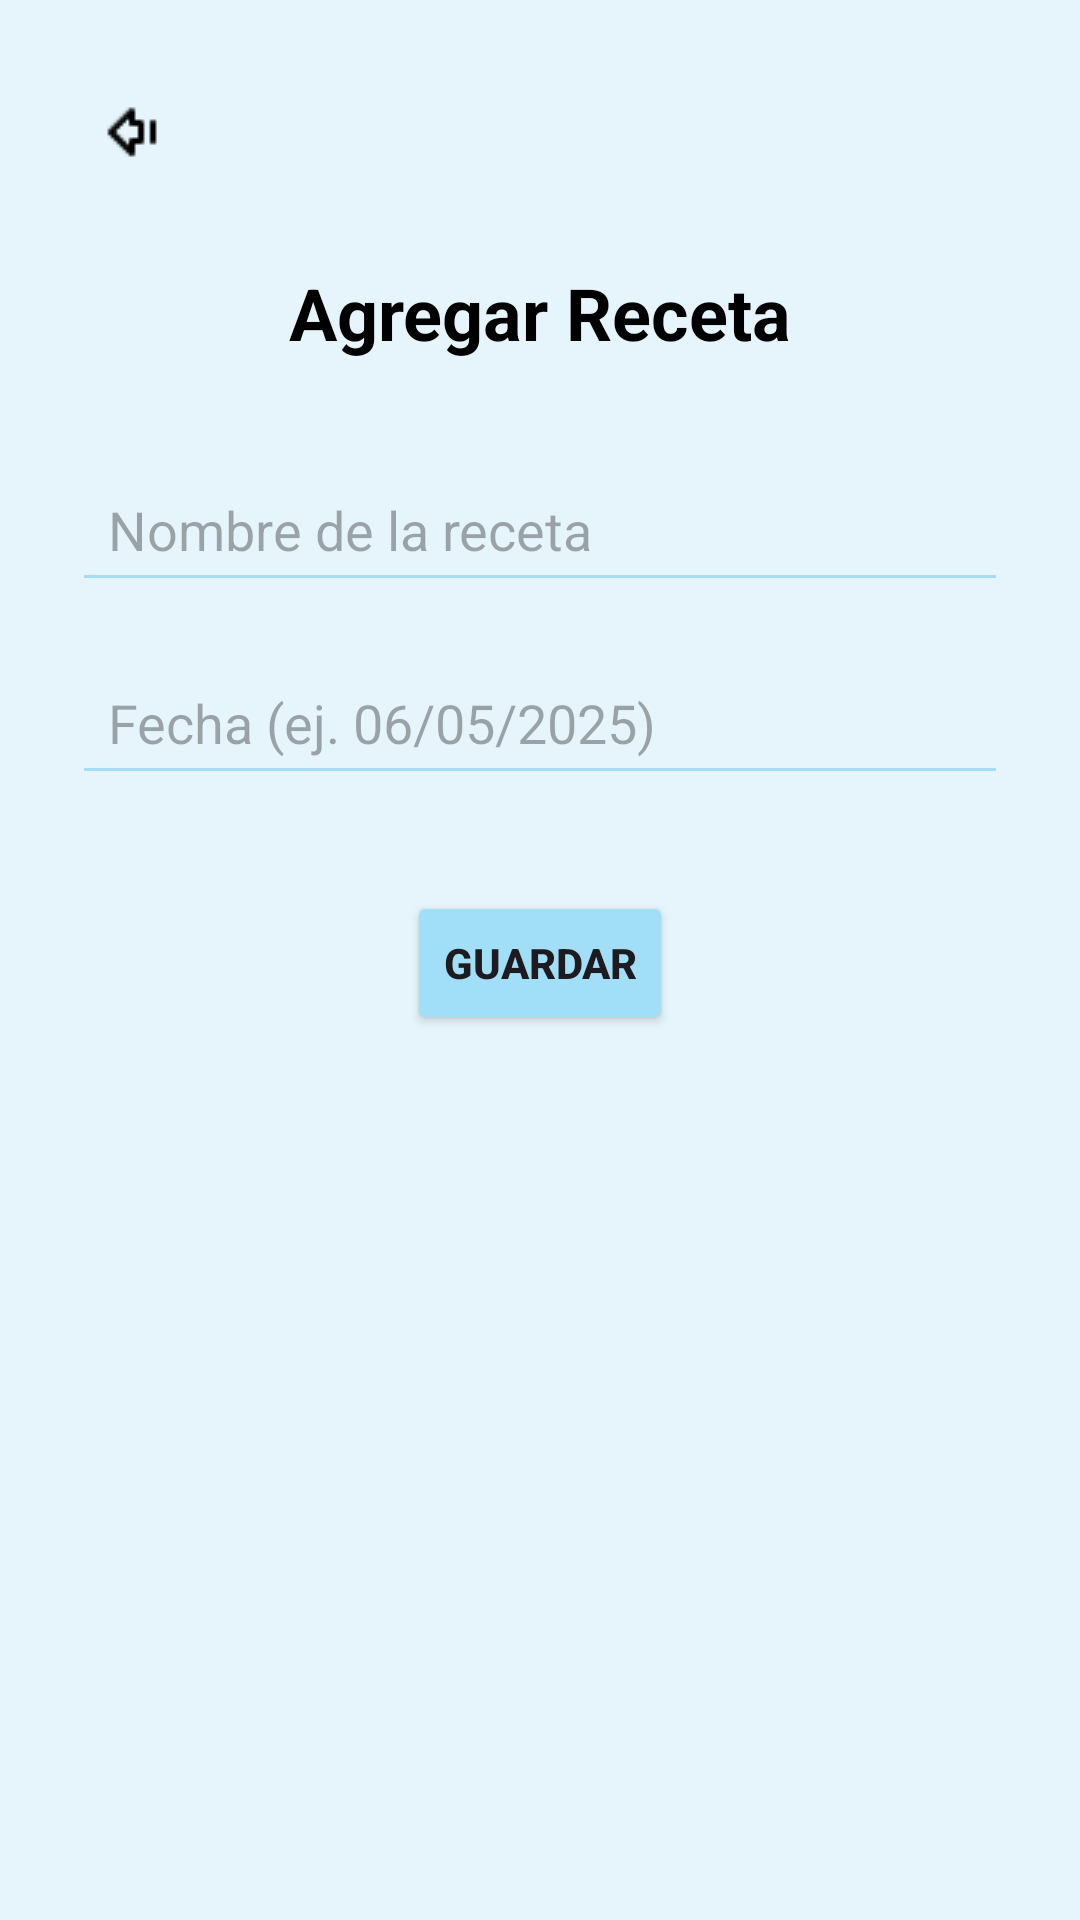

Screen size 1080px x 1920px. Icon name, then its center in pixels as (x=x, y=y):
Volver: (x=132, y=132)
